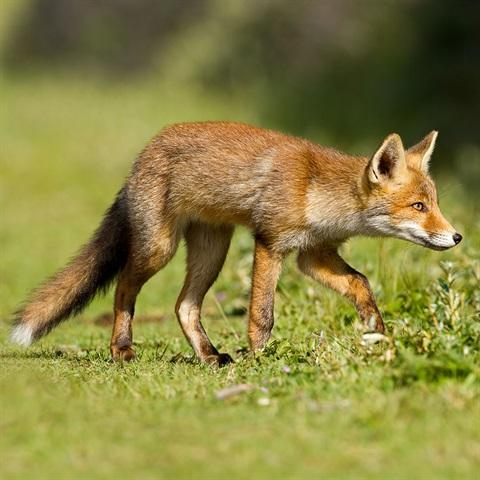fox: (4, 34, 480, 456)
